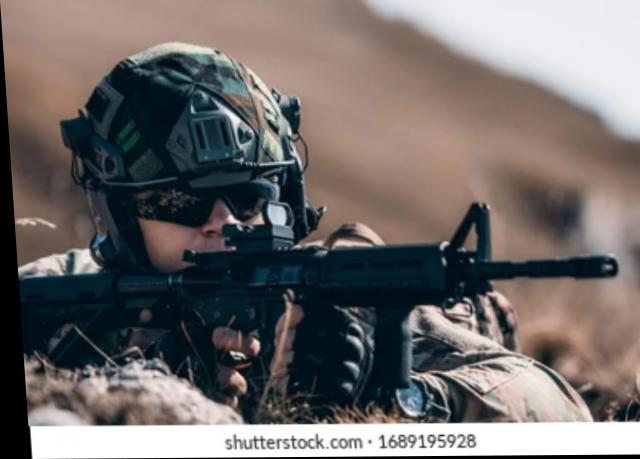other: (66, 54, 340, 411)
